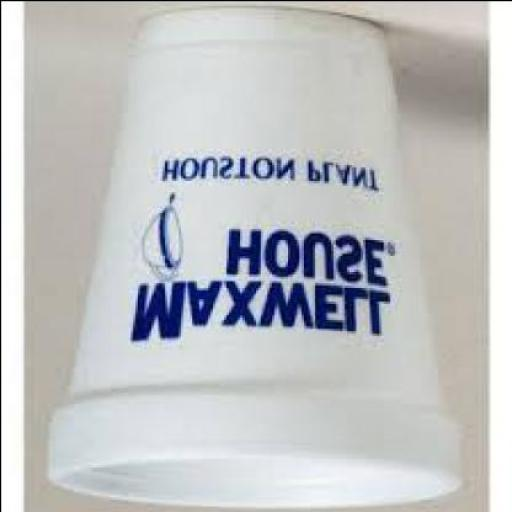paper: (46, 11, 456, 510)
